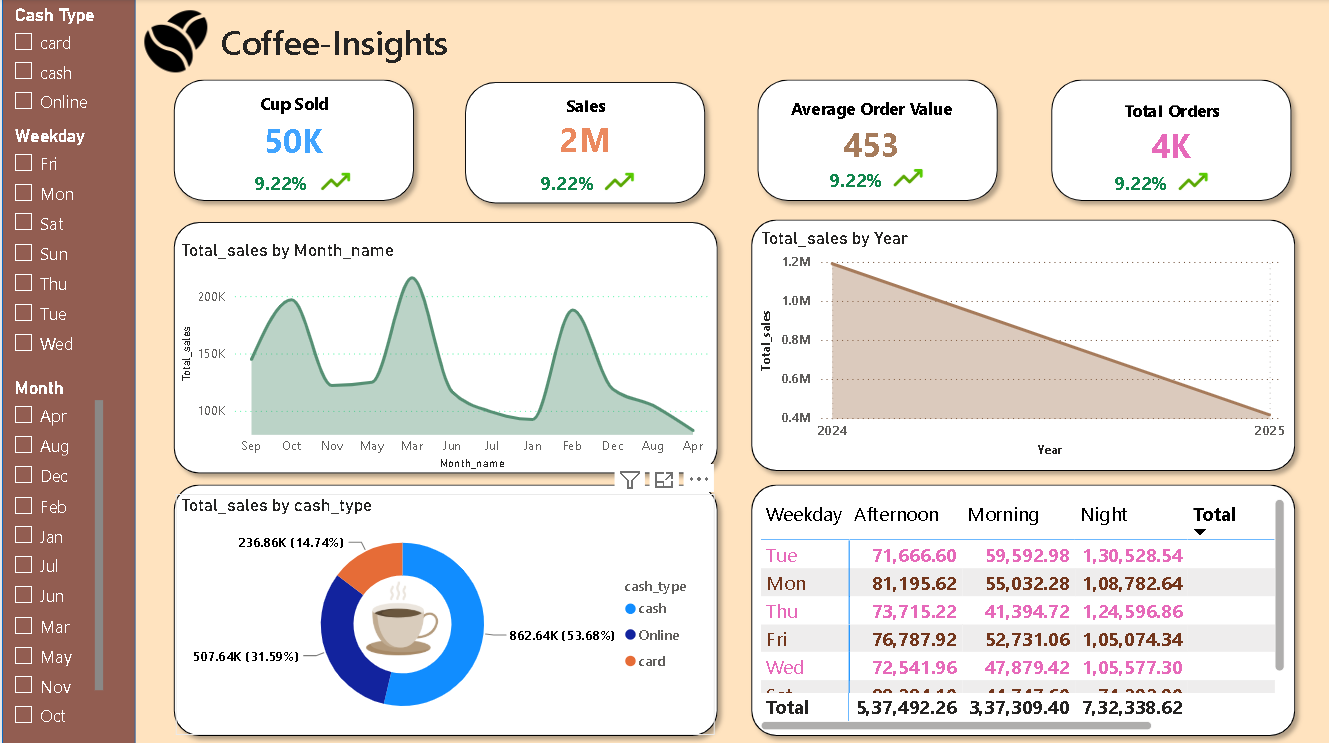

What the dashboard file says about the page in this screenshot:
{"tool":"powerbi","page":{"name":"Page 1","canvas":[1280,720],"ordinal":0},"visuals":[{"type":"shape","box":[720.2,68.8,249.7,135.1],"z":0},{"type":"shape","box":[156.8,68.8,249.7,135.1],"z":1000},{"type":"shape","box":[714.2,203.9,542.9,260.6],"z":2000},{"type":"shape","box":[156.8,459.7,542.9,260.6],"z":3000},{"type":"shape","box":[714.2,459.7,542.9,260.6],"z":4000},{"type":"shape","box":[156.8,206.3,542.9,260.6],"z":5000},{"type":"shape","box":[437.9,71.2,249.7,135.1],"z":6000},{"type":"shape","box":[1003.8,68.8,249.7,135.1],"z":7000},{"type":"shape","box":[0,0,129.1,720.2],"z":8000},{"type":"barChart","fields":{"Category":["Coffe_sales.coffee_name"],"Y":["Coffe_sales.Total_sales"]},"box":[970.3,838.3,535.6,150.4],"z":9000},{"type":"slicer","fields":{"Values":["Coffe_sales.Weekday"]},"box":[0,117,105,242.5],"z":10000},{"type":"slicer","fields":{"Values":["Coffe_sales.Month_name"]},"box":[0,360.7,102.5,343.8],"z":11000},{"type":"cardVisual","fields":{"Data":["Coffe_sales.Total_cup_sold"]},"box":[197.9,74.8,168.9,97.7],"z":12000},{"type":"cardVisual","fields":{"Data":["Coffe_sales.Average_order_value"]},"box":[720.2,79.6,238.9,96.5],"z":13000},{"type":"slicer","fields":{"Values":["Coffe_sales.cash_type"]},"box":[0,0,115.8,147.2],"z":14000},{"type":"cardVisual","fields":{"Data":["Coffe_sales.Total_orders"]},"box":[1027.9,85.7,202.7,86.9],"z":15000},{"type":"cardVisual","fields":{"Data":["Coffe_sales.Revnue"]},"box":[463.3,80.8,200.3,84.5],"z":16000},{"type":"lineChart","fields":{"Y":["Coffe_sales.Total_sales"],"Category":["Coffe_sales.Date.Variation.Date Hierarchy.Year","Coffe_sales.Date.Variation.Date Hierarchy.Quarter","Coffe_sales.Date.Variation.Date Hierarchy.Month","Coffe_sales.Date.Variation.Date Hierarchy.Day"]},"box":[727.5,220.8,515.2,226.8],"z":17000},{"type":"donutChart","fields":{"Category":["Coffe_sales.Time_of_Day"],"Y":["Coffe_sales.Total_sales"]},"box":[328.3,775.9,339.3,234.8],"z":18000},{"type":"donutChart","fields":{"Category":["Coffe_sales.cash_type"],"Y":["Coffe_sales.Total_sales"]},"box":[167.7,477.8,520,232.8],"z":19000},{"type":"areaChart","fields":{"Category":["Coffe_sales.Month_name"],"Y":["Coffe_sales.Total_sales"]},"box":[167.7,231.6,520,228],"z":20000},{"type":"pivotTable","fields":{"Values":["Coffe_sales.Total_sales"],"Rows":["Coffe_sales.Weekday"],"Columns":["Coffe_sales.Time_of_Day"]},"box":[727.5,477.8,515.2,232.8],"z":21000},{"type":"cardVisual","fields":{"Data":["Coffe_sales.T"]},"box":[179.8,0,283.5,80.8],"z":22000},{"type":"cardVisual","fields":{"Data":["Coffe_sales.Growth %"]},"box":[474.1,144.8,143.6,62.7],"z":23000},{"type":"image","box":[328.2,562.2,115.8,71.2],"z":24000},{"type":"cardVisual","fields":{"Data":["Coffe_sales.Growth %"]},"box":[752.8,141.2,143.6,62.7],"z":25000},{"type":"cardVisual","fields":{"Data":["Coffe_sales.Growth %"]},"box":[1027.9,144.8,143.6,62.7],"z":26000},{"type":"cardVisual","fields":{"Data":["Coffe_sales.Growth %"]},"box":[197.9,144.8,143.6,62.7],"z":27000},{"type":"image","box":[300.4,159.3,43.4,33.8],"z":28000},{"type":"image","box":[574.3,159.3,43.4,33.8],"z":29000},{"type":"image","box":[853,155.6,43.4,33.8],"z":30000},{"type":"image","box":[1128,159.3,43.4,33.8],"z":30001},{"type":"image","box":[108.6,10.9,118.2,60.3],"z":30002}]}

Visuals, with their boxes in screenshot pixels (x1, y1, x2, y2), scaled from the page's 1280x720 canvas onto the 1329x743 screenshot:
shape: {"x1": 748, "y1": 71, "x2": 1007, "y2": 210}
shape: {"x1": 163, "y1": 71, "x2": 422, "y2": 210}
shape: {"x1": 742, "y1": 210, "x2": 1305, "y2": 479}
shape: {"x1": 163, "y1": 474, "x2": 726, "y2": 742}
shape: {"x1": 742, "y1": 474, "x2": 1305, "y2": 742}
shape: {"x1": 163, "y1": 213, "x2": 726, "y2": 482}
shape: {"x1": 455, "y1": 73, "x2": 714, "y2": 213}
shape: {"x1": 1042, "y1": 71, "x2": 1301, "y2": 210}
shape: {"x1": 0, "y1": 0, "x2": 134, "y2": 742}
slicer - Coffe_sales.Weekday: {"x1": 0, "y1": 121, "x2": 109, "y2": 371}
slicer - Coffe_sales.Month_name: {"x1": 0, "y1": 372, "x2": 106, "y2": 727}
cardVisual - Coffe_sales.Total_cup_sold: {"x1": 205, "y1": 77, "x2": 381, "y2": 178}
cardVisual - Coffe_sales.Average_order_value: {"x1": 748, "y1": 82, "x2": 996, "y2": 182}
slicer - Coffe_sales.cash_type: {"x1": 0, "y1": 0, "x2": 120, "y2": 152}
cardVisual - Coffe_sales.Total_orders: {"x1": 1067, "y1": 88, "x2": 1278, "y2": 178}
cardVisual - Coffe_sales.Revnue: {"x1": 481, "y1": 83, "x2": 689, "y2": 171}
lineChart - Coffe_sales.Total_sales x Coffe_sales.Date.Variation.Date Hierarchy.Year: {"x1": 755, "y1": 228, "x2": 1290, "y2": 462}
donutChart - Coffe_sales.cash_type x Coffe_sales.Total_sales: {"x1": 174, "y1": 493, "x2": 714, "y2": 733}
areaChart - Coffe_sales.Month_name x Coffe_sales.Total_sales: {"x1": 174, "y1": 239, "x2": 714, "y2": 474}
pivotTable - Coffe_sales.Total_sales x Coffe_sales.Weekday: {"x1": 755, "y1": 493, "x2": 1290, "y2": 733}
cardVisual - Coffe_sales.T: {"x1": 187, "y1": 0, "x2": 481, "y2": 83}
cardVisual - Coffe_sales.Growth %: {"x1": 492, "y1": 149, "x2": 641, "y2": 214}
image: {"x1": 341, "y1": 580, "x2": 461, "y2": 654}
cardVisual - Coffe_sales.Growth %: {"x1": 782, "y1": 146, "x2": 931, "y2": 210}
cardVisual - Coffe_sales.Growth %: {"x1": 1067, "y1": 149, "x2": 1216, "y2": 214}
cardVisual - Coffe_sales.Growth %: {"x1": 205, "y1": 149, "x2": 355, "y2": 214}
image: {"x1": 312, "y1": 164, "x2": 357, "y2": 199}
image: {"x1": 596, "y1": 164, "x2": 641, "y2": 199}
image: {"x1": 886, "y1": 161, "x2": 931, "y2": 195}
image: {"x1": 1171, "y1": 164, "x2": 1216, "y2": 199}
image: {"x1": 113, "y1": 11, "x2": 235, "y2": 73}
